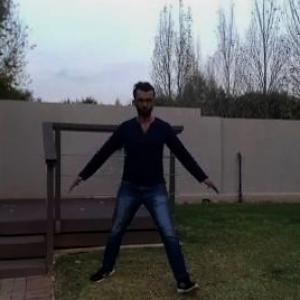land: (85, 77, 216, 299)
